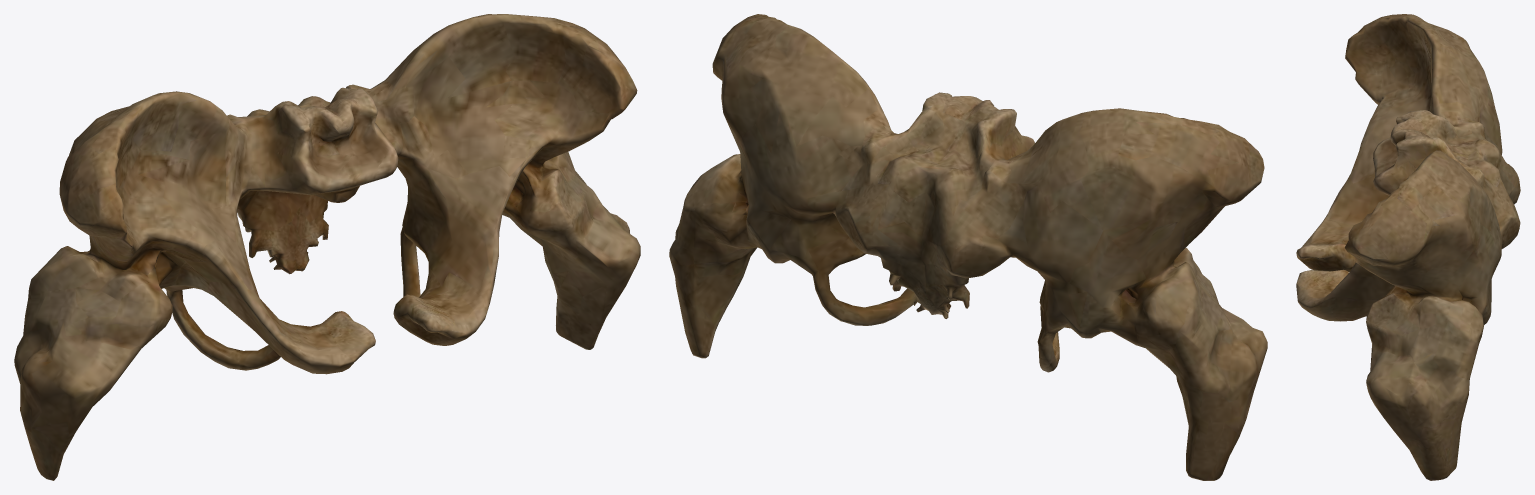
File: pelvis.glb
3 views of the same model, side by side, from view 1: azimuth 30°, elevation 25°; view 2: azimuth 150°, elevation 25°; view 3: azimuth 270°, elevation 25° (orthographic). The views are drawn at different scales.
Visible parts, largest first — view 1: Mesh_0; view 2: Mesh_0; view 3: Mesh_0.
Part boxes in pixels (box(x1,y1,x2,y2)): Mesh_0: box(14, 14, 640, 480); Mesh_0: box(669, 14, 1267, 480); Mesh_0: box(1296, 14, 1520, 480).
Size of the model in its own units: 1.9 by 1.08 by 0.7729.
Materials: 1 (1 with a texture image).
